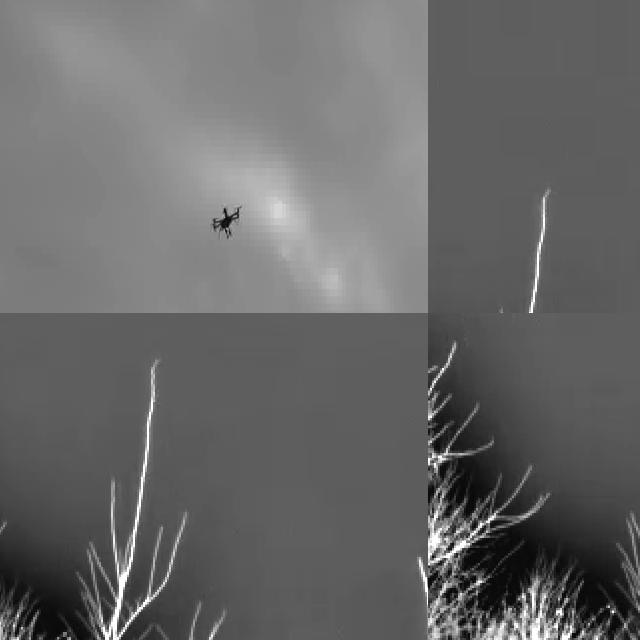drone: (209, 199, 243, 241)
